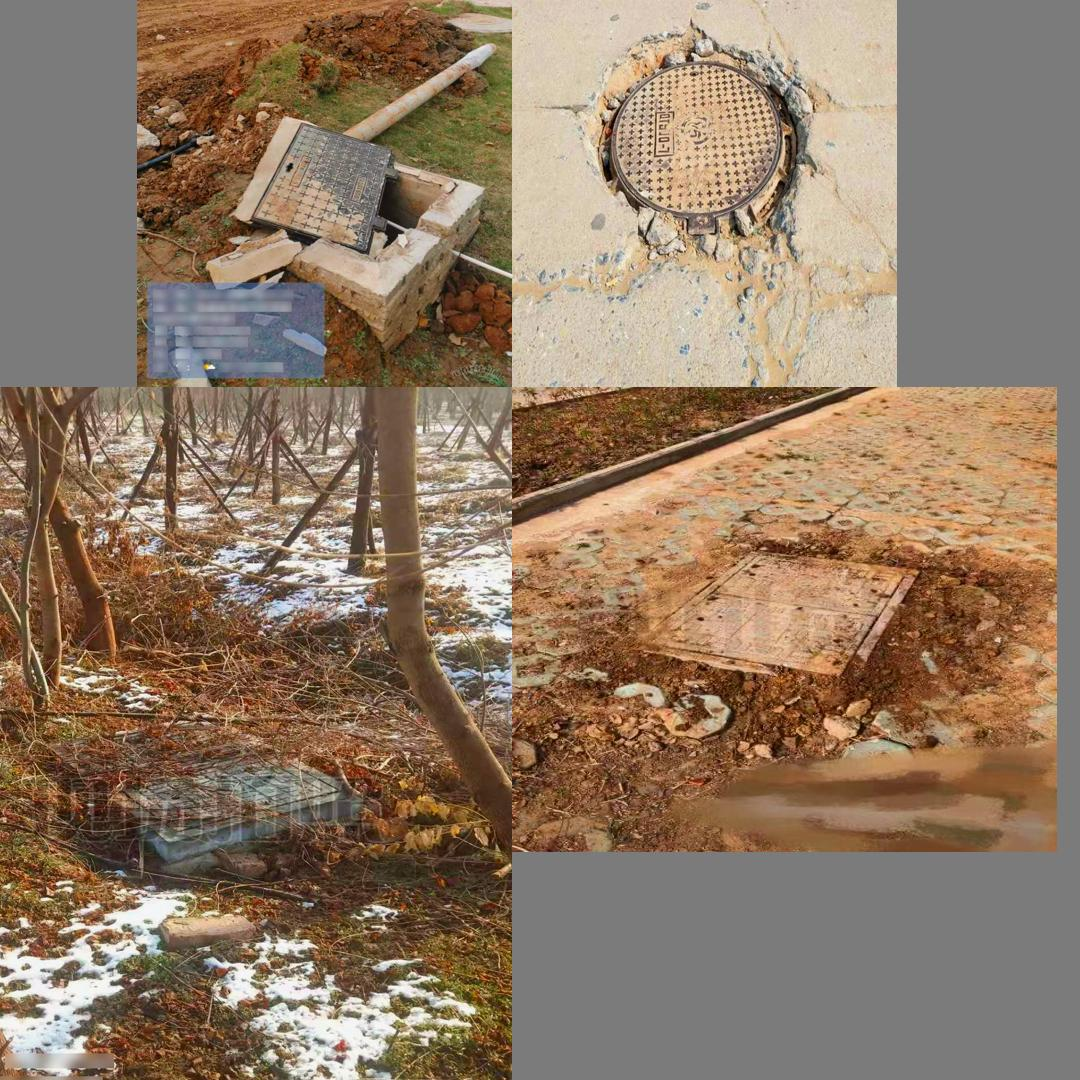circle: (568, 22, 830, 268), (611, 547, 944, 700), (48, 712, 367, 868), (213, 114, 467, 284)
